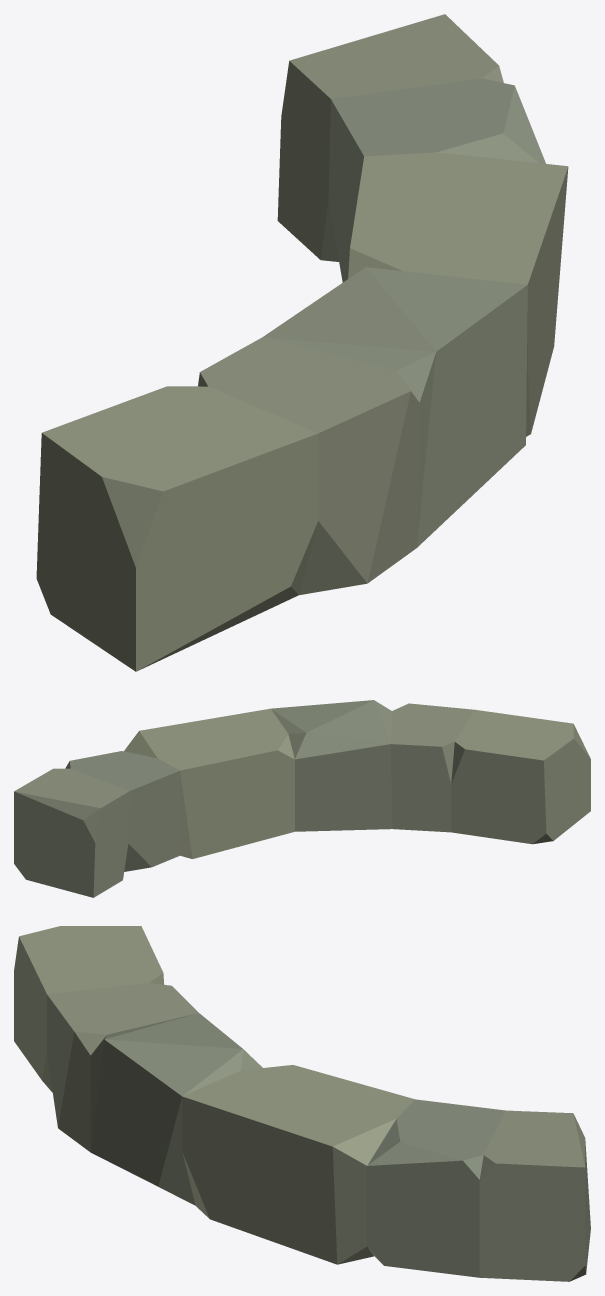
The model's file is railing_round_corner_2x2_conv_low.fbx.
3 renders of one model, top to bottom at view 1: azimuth 30°, elevation 25°; view 2: azimuth 150°, elevation 25°; view 3: azimuth 270°, elevation 25°, orthographic. The views are drawn at different scales.
Parts seen in each view (by area): view 1: railing_round_corner_2x2_conv_low; view 2: railing_round_corner_2x2_conv_low; view 3: railing_round_corner_2x2_conv_low.
Boxes of the visible parts, left/top/right/bottom form: railing_round_corner_2x2_conv_low: left=36, top=14, right=568, bottom=671; railing_round_corner_2x2_conv_low: left=14, top=700, right=590, bottom=897; railing_round_corner_2x2_conv_low: left=14, top=926, right=590, bottom=1281.
Bounding box in the file's own units: 227 × 56.75 × 227.
